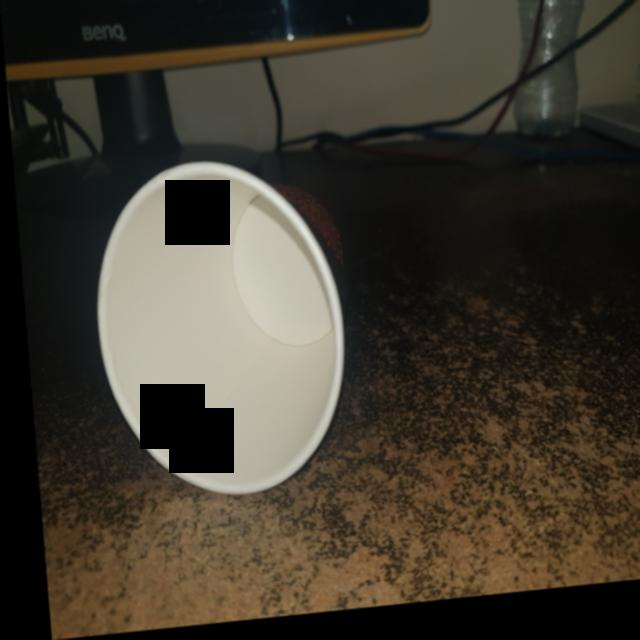cups: (75, 147, 363, 515)
